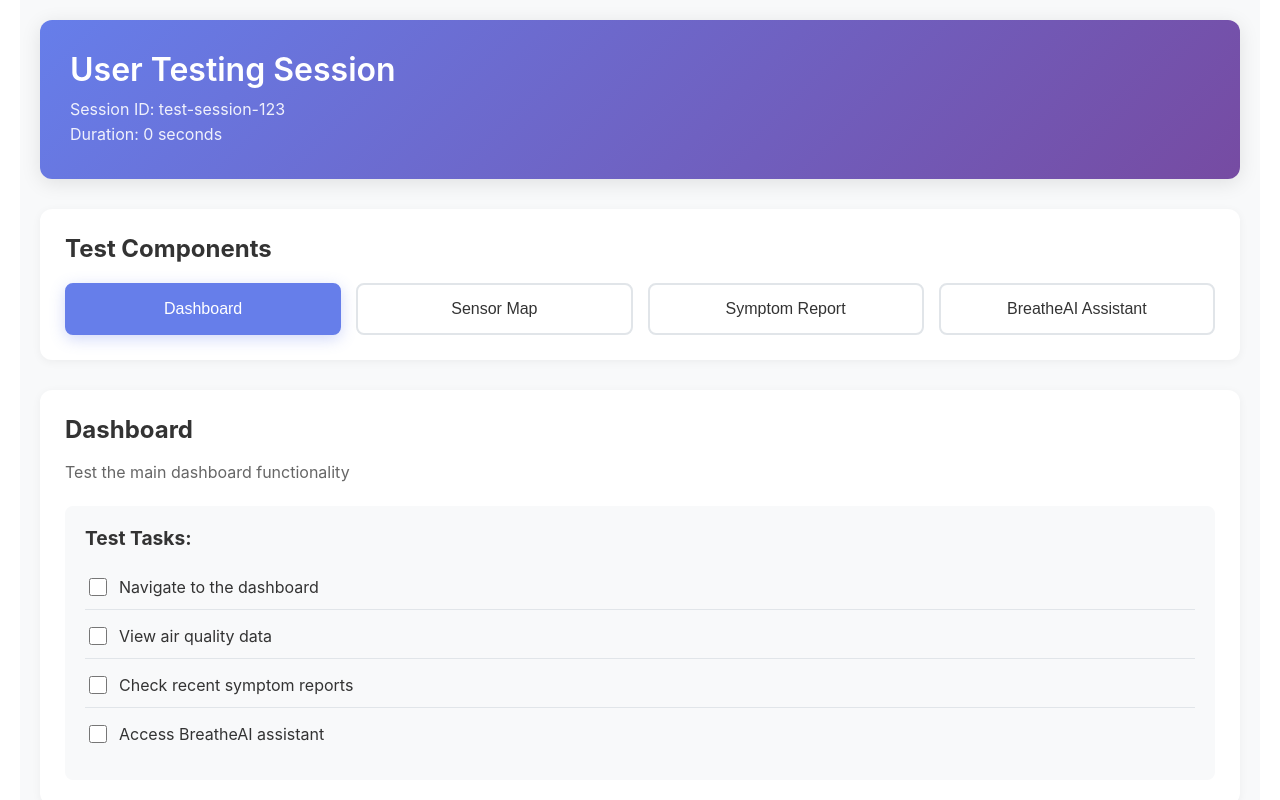
Test case: UserTesting Component › tracks interactions and updates summary
The image size is (1280, 800).
Note: Perform some interactions
Click the button "Sensor Map".
click(494, 309)  # box x1=356 y1=283 x2=633 y2=335
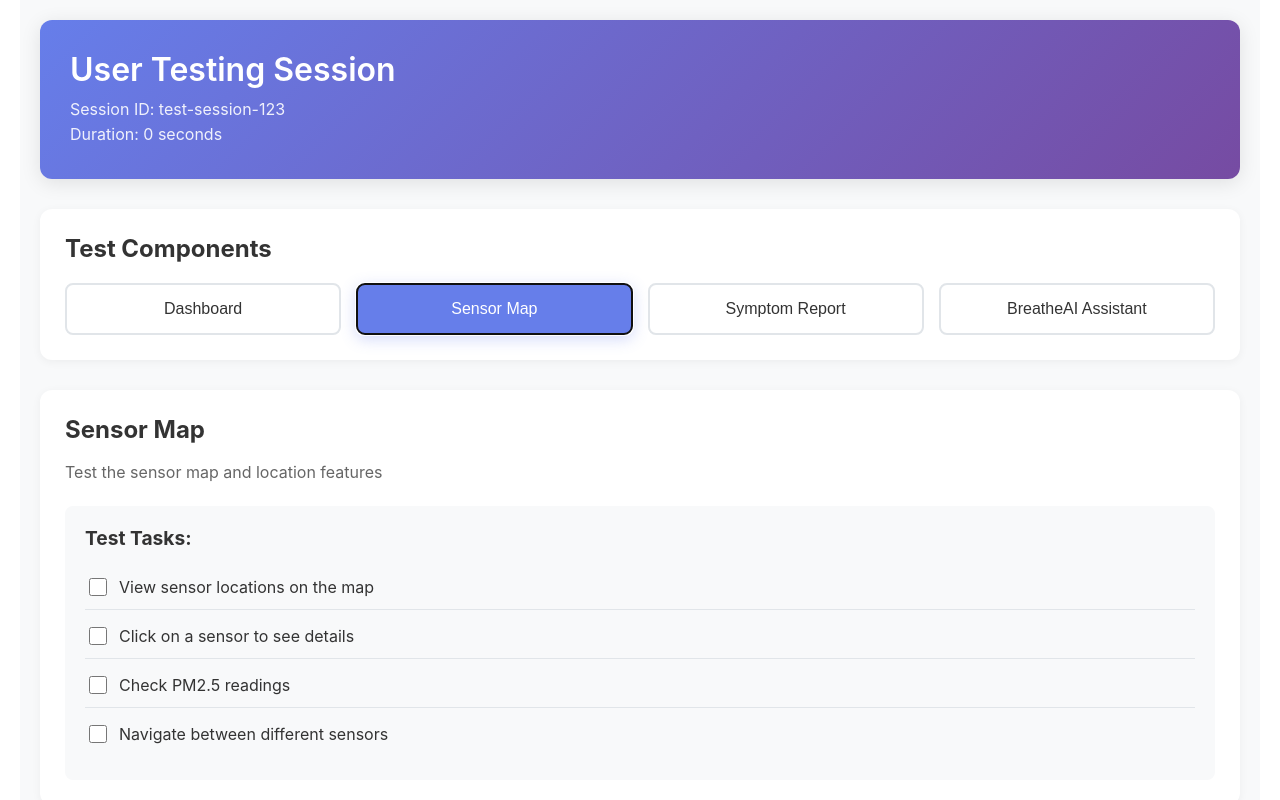
Click the button "Symptom Report".
click(786, 309)  # box x1=648 y1=283 x2=924 y2=335
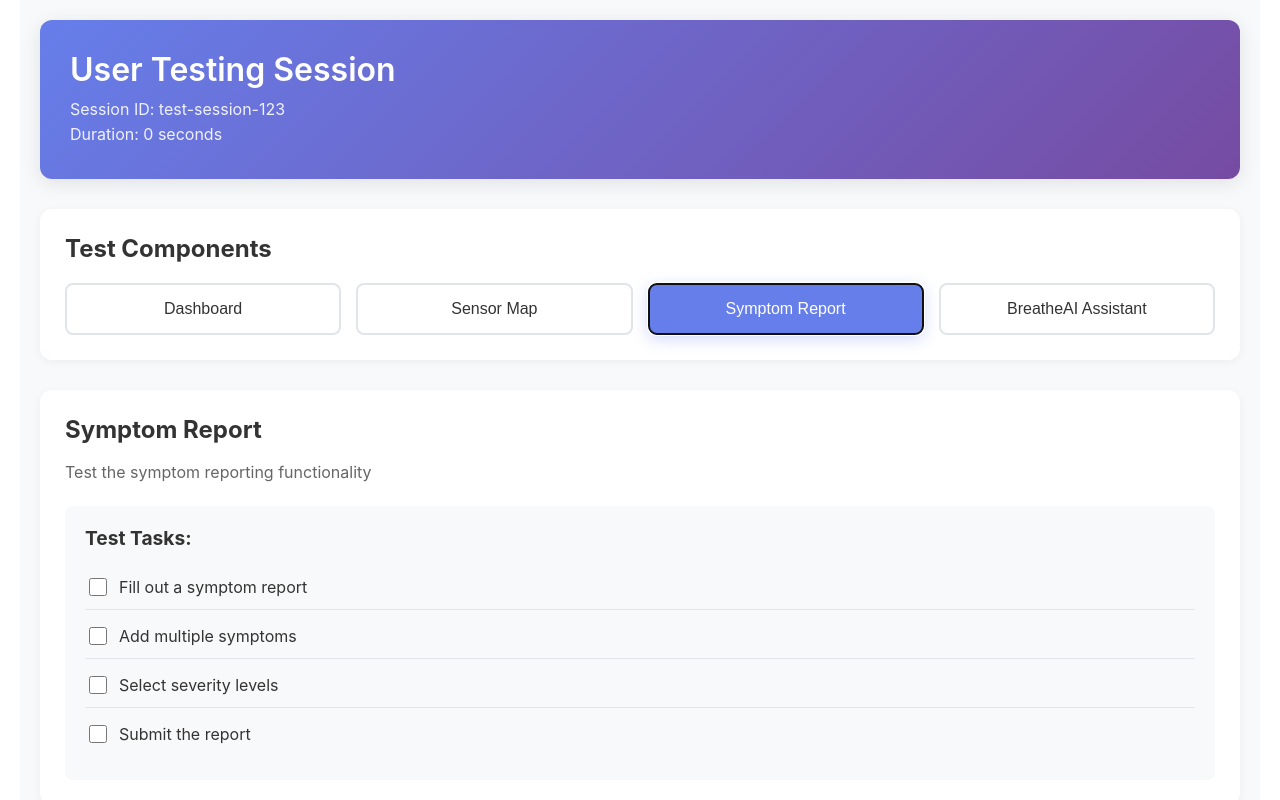
Note: Check a task
Click the checkbox labelled "Fill out a symptom report".
click(98, 587)  # box x1=89 y1=578 x2=107 y2=596
(page scrolled)
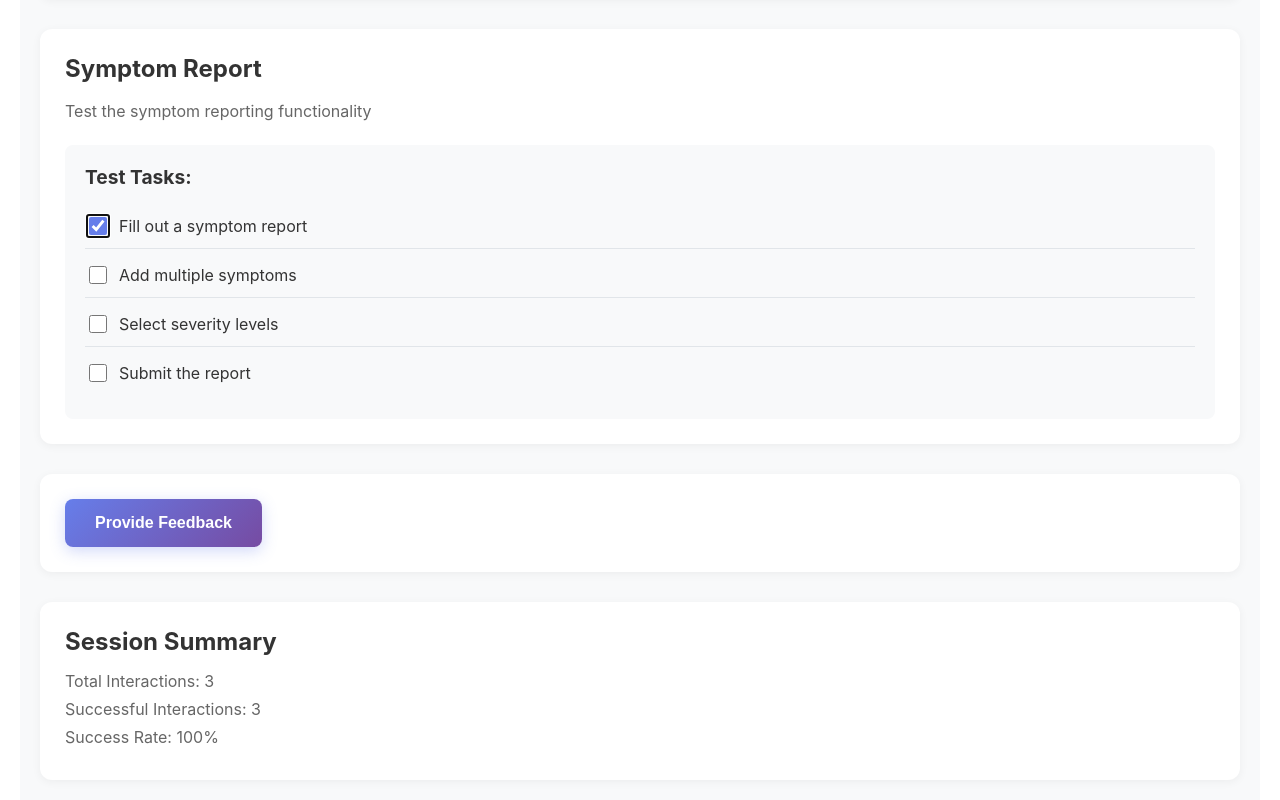
Check: the text "Success Rate: 100%" is shown, box x1=65 y1=727 x2=219 y2=747
Check: the text "Total Interactions: 3" is shown, box x1=65 y1=671 x2=214 y2=691
Check: the text "Successful Interactions: 3" is shown, box x1=65 y1=699 x2=261 y2=719
